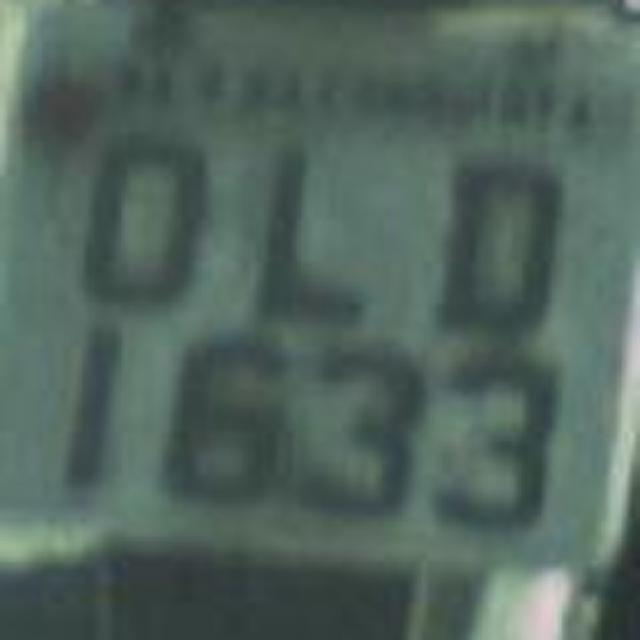1: (36, 300, 144, 508)
3: (248, 328, 464, 544), (384, 332, 596, 552)
6: (136, 312, 312, 532)
D: (429, 140, 576, 360)
J: (251, 136, 384, 349)
O: (64, 104, 228, 324)
